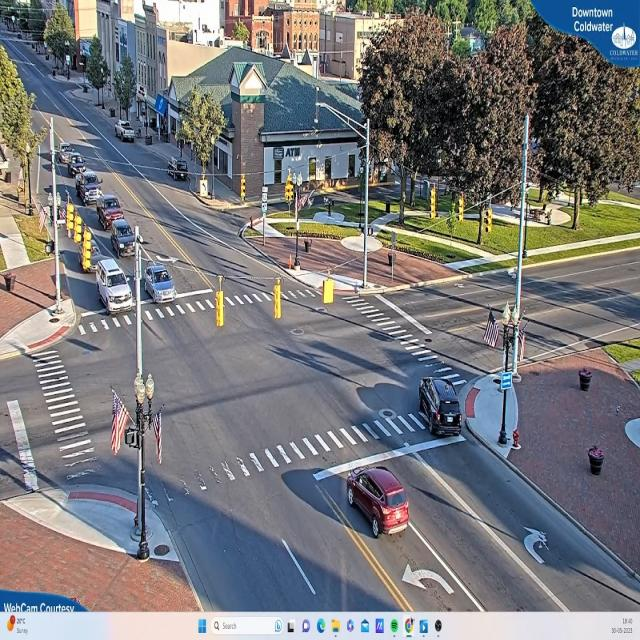car: (346, 466, 412, 539), (418, 376, 463, 438), (96, 260, 136, 314), (142, 263, 176, 303), (112, 217, 139, 262), (586, 442, 606, 475), (117, 123, 136, 143), (66, 153, 83, 173)
